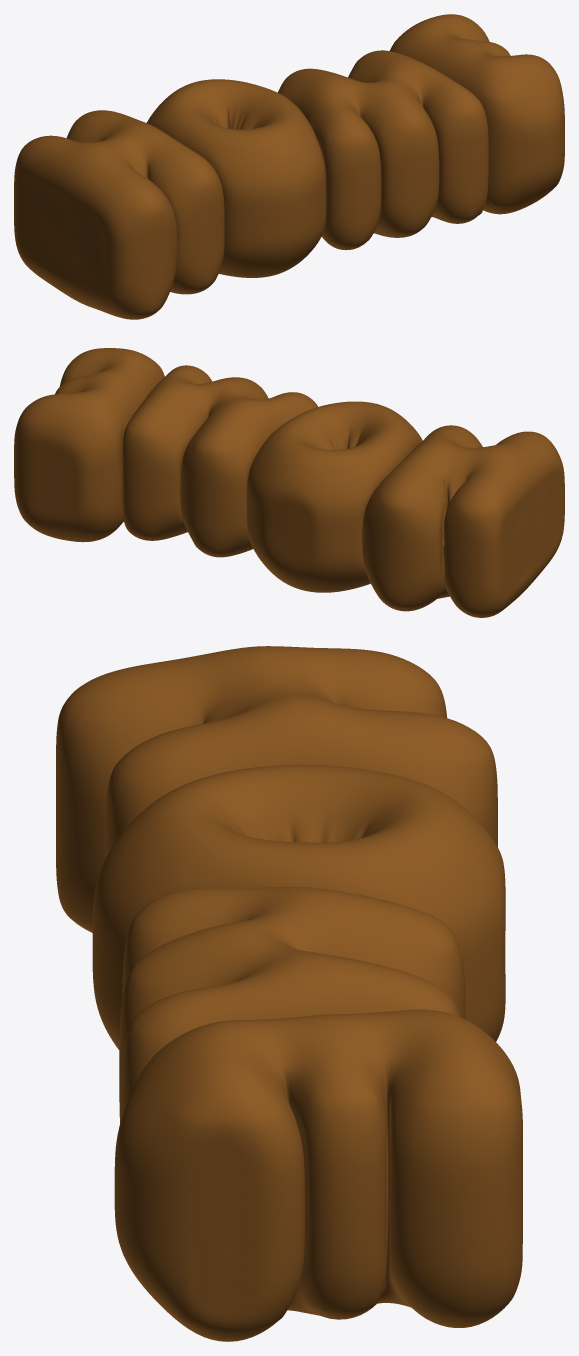
Rendered from HOMEi.gltf.
The picture shows the model from 3 angles, top to bottom: view 1: azimuth 30°, elevation 25°; view 2: azimuth 150°, elevation 25°; view 3: azimuth 270°, elevation 25°; orthographic projection. The views are drawn at different scales.
Parts seen in each view (by area): view 1: Text; view 2: Text; view 3: Text.
Part boxes in pixels (bbox=[...]): Text: bbox=[14, 14, 564, 319]; Text: bbox=[14, 348, 564, 617]; Text: bbox=[56, 646, 522, 1341].
Size of the model in its own units: 9.45 by 2.87 by 4.02.
